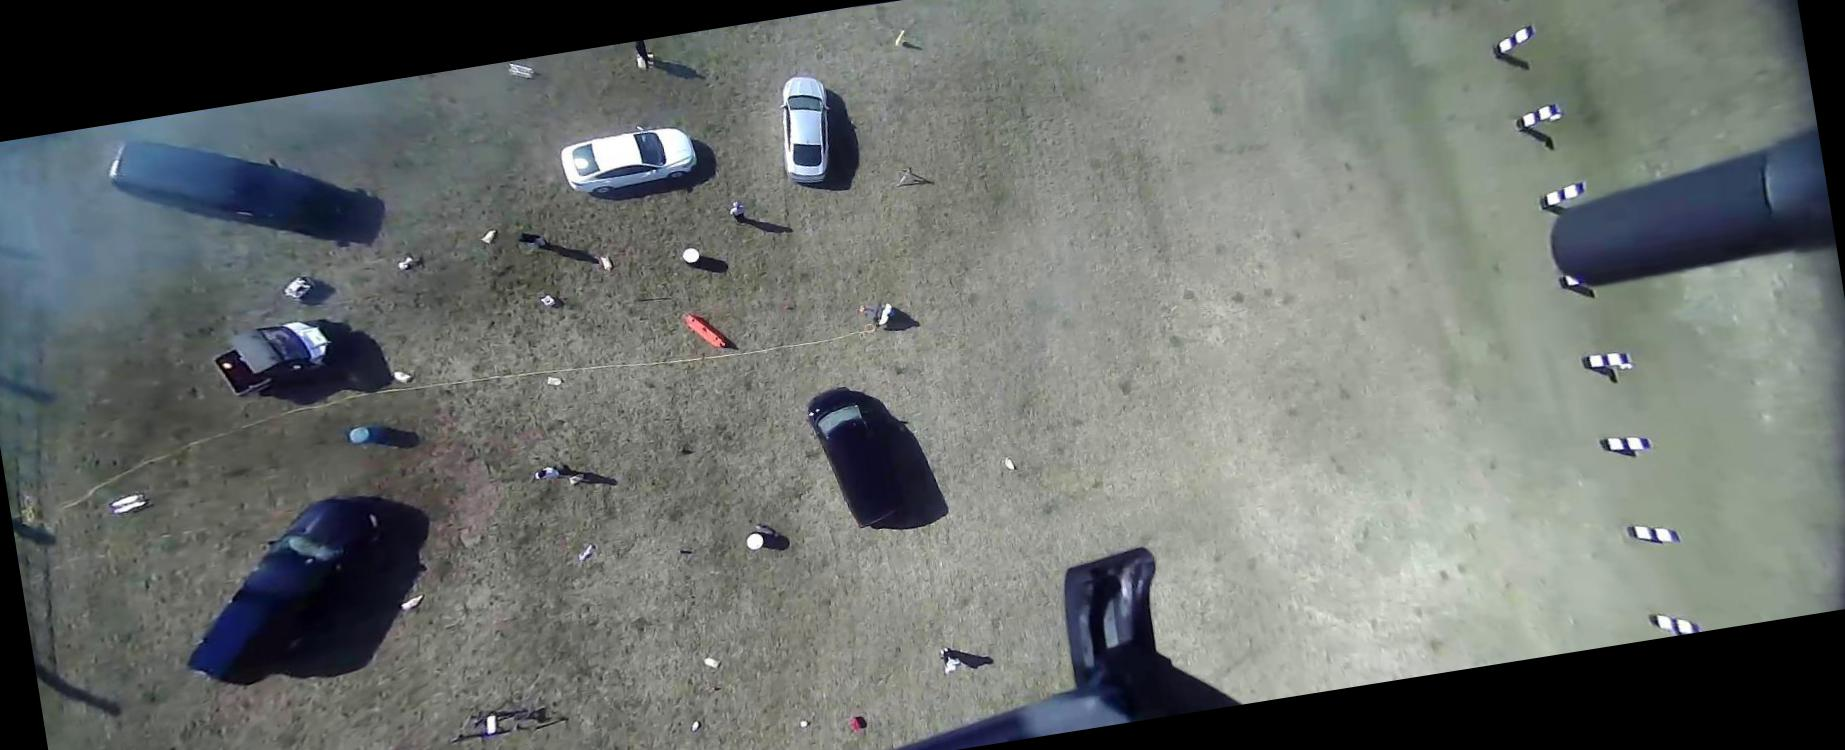vehicle: (162, 488, 406, 696), (100, 110, 324, 260), (801, 380, 901, 534), (556, 116, 700, 200), (206, 314, 341, 401), (770, 72, 841, 188)
